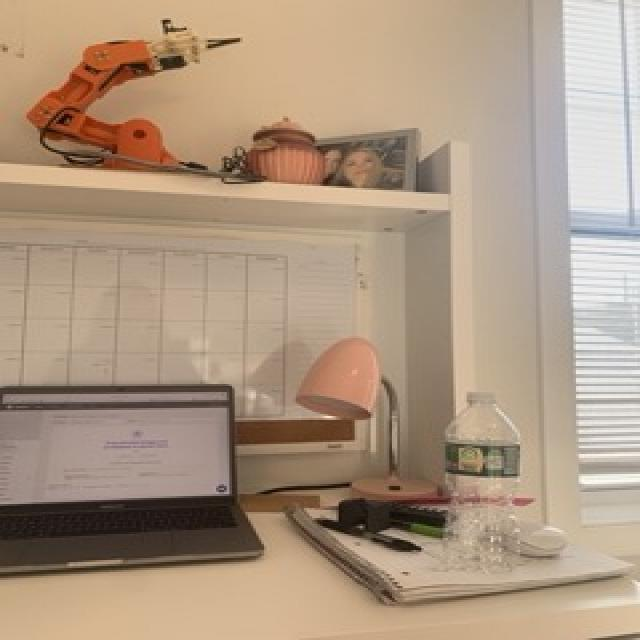water_bottle: (438, 389, 528, 582)
